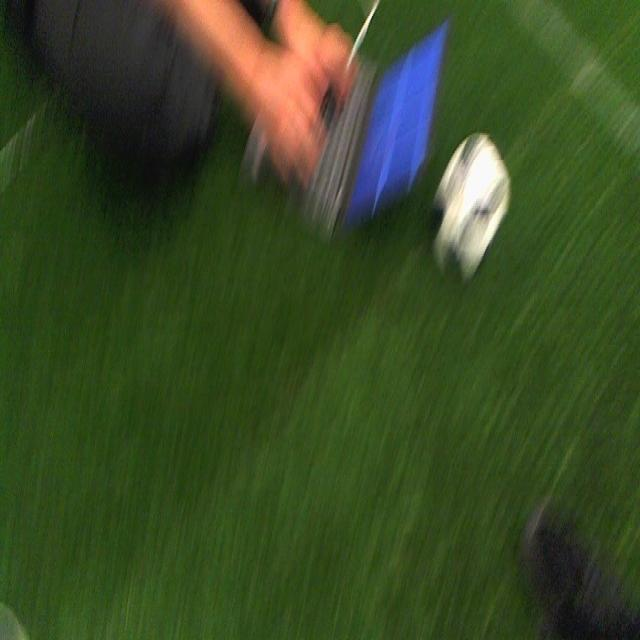ball: (429, 126, 512, 284)
